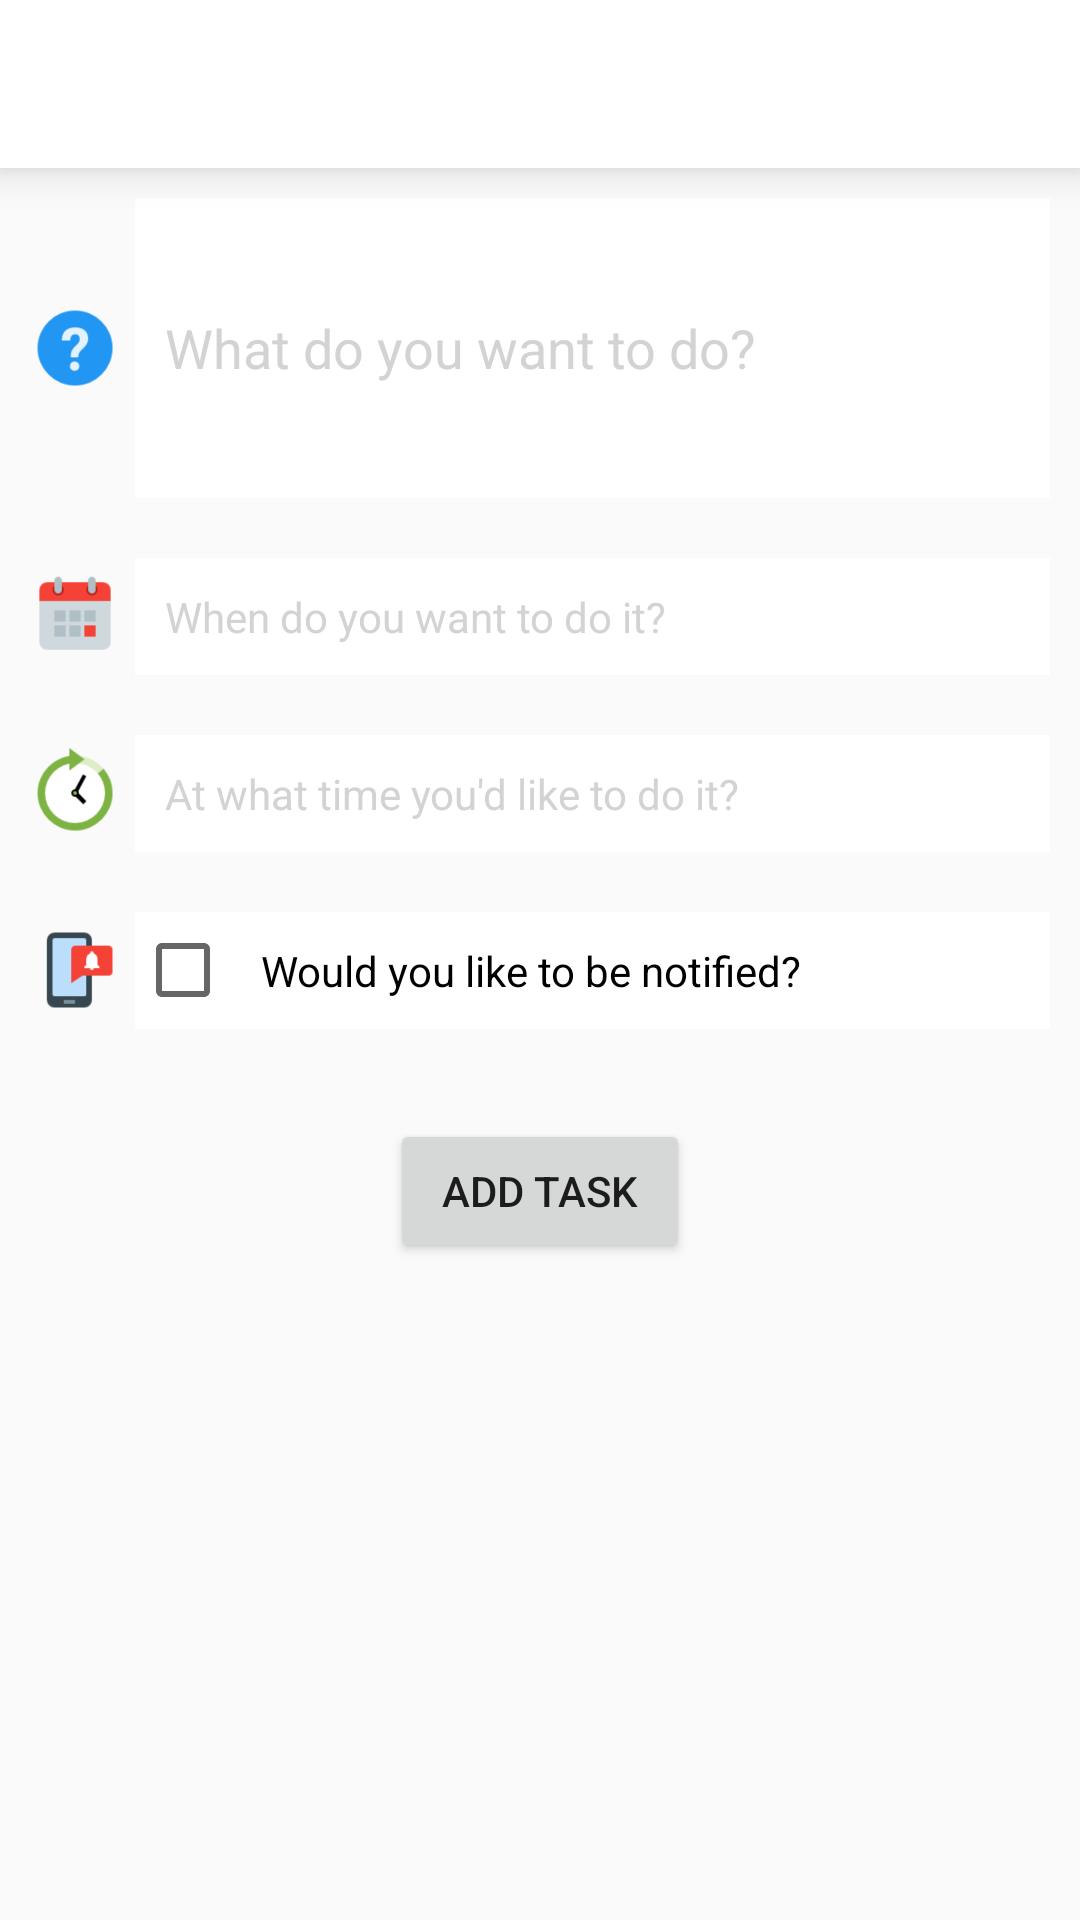

Named icons in this screenshot (1080w x 1920h) and their bounding boxes, (x1, y1, x2, y2):
notify: (46, 932, 113, 1008)
